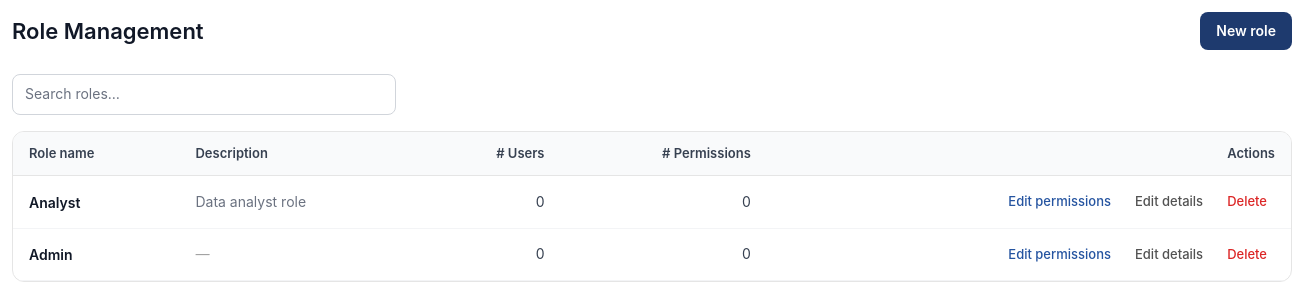
Test case: RolesPage — search/filter › filters roles by description substring
Expected: the text "Analyst" is shown, [29,194,80,211]
Step 1. Type "data analyst" into the search field → {"x": 204, "y": 95}, box [12,74,396,115]
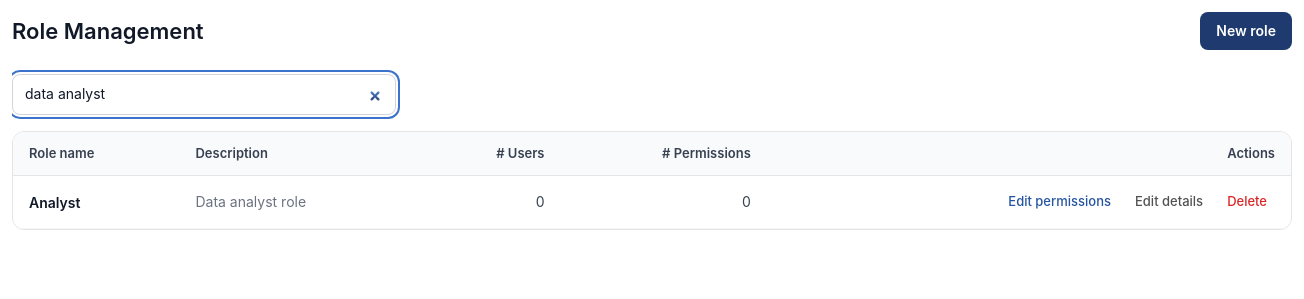
Expected: the text "Analyst" is shown, [29,194,80,211]
Expected: the text "Admin" is gone
